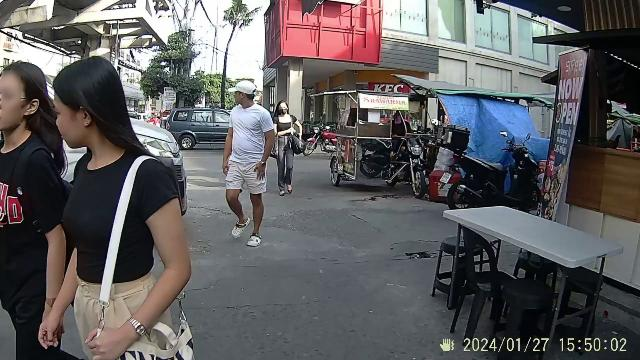car: (169, 106, 231, 152)
street_vendor_cart: (323, 90, 397, 178)
